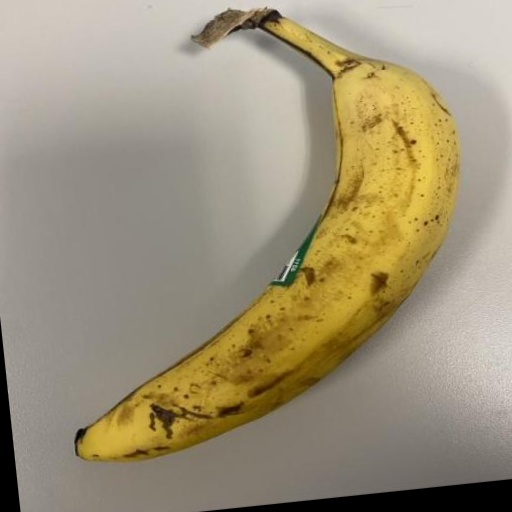fruit: (74, 10, 458, 461)
